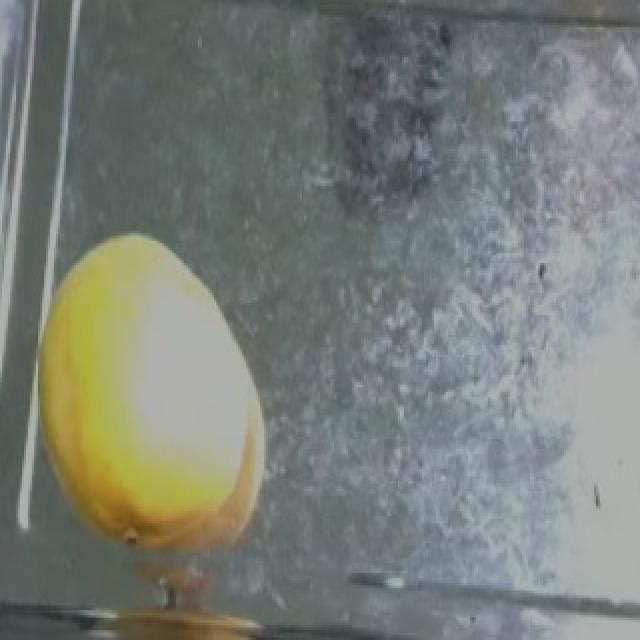fruit: (2, 206, 314, 578)
